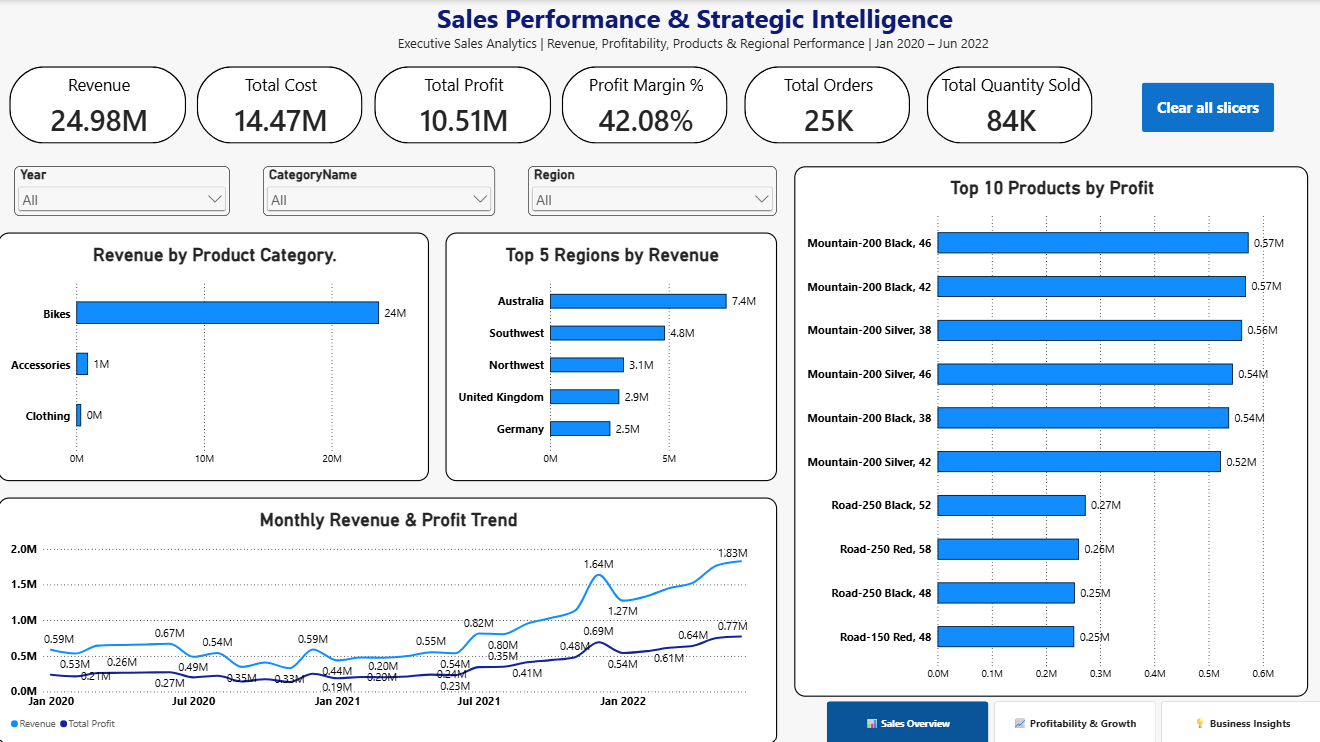

This screenshot's page, from the dashboard's own definition file:
{"tool":"powerbi","page":{"name":"📊 Sales Overview","canvas":[1920,1080],"ordinal":0},"visuals":[{"type":"cardVisual","fields":{"Data":["Fact_Sales.Total Revenue"]},"box":[16,96,256,112],"z":0},{"type":"cardVisual","fields":{"Data":["Fact_Sales.Total Cost"]},"box":[288,96,240,112],"z":1000},{"type":"cardVisual","fields":{"Data":["Fact_Sales.Total Profit"]},"box":[544,96,256,112],"z":2000},{"type":"cardVisual","fields":{"Data":["Fact_Sales.Profit Margin %"]},"box":[816,96,240,112],"z":3000},{"type":"cardVisual","fields":{"Data":["Fact_Sales.Total Orders"]},"box":[1080,96,240,112],"z":4000},{"type":"cardVisual","fields":{"Data":["Fact_Sales.Total Quantity Sold"]},"box":[1344,96,240,112],"z":5000},{"type":"lineChart","title":"Monthly Revenue & Profit Trend","fields":{"Y":["Fact_Sales.Total Revenue","Fact_Sales.Total Profit"],"Category":["Dim_Calendar.Date.Variation.Date Hierarchy.Year","Dim_Calendar.Date.Variation.Date Hierarchy.Month"]},"box":[0,720,1128,360],"z":6000},{"type":"clusteredBarChart","title":"Revenue by Product Category.","fields":{"Category":["Dim_ProductCategory.CategoryName"],"Y":["Fact_Sales.Total Revenue"]},"box":[0,336,624,360],"z":7000},{"type":"clusteredBarChart","title":"Top 5 Regions by Revenue","fields":{"Category":["Dim_Territory.Region"],"Y":["Fact_Sales.Total Revenue"]},"box":[648,336,480,360],"z":8000},{"type":"clusteredBarChart","title":"Top 10 Products by Profit","fields":{"Y":["Fact_Sales.Total Profit"],"Category":["Dim_Product.ProductName"]},"box":[1152,240,744,768],"z":9000},{"type":"textbox","box":[504,0,1008,96],"z":10000},{"type":"slicer","fields":{"Values":["Dim_Calendar.Year"]},"box":[24,240,312,72],"z":11000},{"type":"slicer","fields":{"Values":["Dim_ProductCategory.CategoryName"]},"box":[384,240,336,72],"z":12000},{"type":"slicer","fields":{"Values":["Dim_Territory.Region"]},"box":[768,240,360,72],"z":13000},{"type":"actionButton","box":[1656,120,192,72],"z":14000},{"type":"pageNavigator","box":[1200,1016,720,64],"z":15000}]}

Visuals, with their boxes in screenshot pixels (x1, y1, x2, y2), scaled from the page's 1920x1080 canvas onto the 1320x742 screenshot:
cardVisual - Fact_Sales.Total Revenue: detection(11, 66, 187, 143)
cardVisual - Fact_Sales.Total Cost: detection(198, 66, 363, 143)
cardVisual - Fact_Sales.Total Profit: detection(374, 66, 550, 143)
cardVisual - Fact_Sales.Profit Margin %: detection(561, 66, 726, 143)
cardVisual - Fact_Sales.Total Orders: detection(742, 66, 908, 143)
cardVisual - Fact_Sales.Total Quantity Sold: detection(924, 66, 1089, 143)
"Monthly Revenue & Profit Trend" lineChart: detection(0, 495, 776, 741)
"Revenue by Product Category." clusteredBarChart: detection(0, 231, 429, 478)
"Top 5 Regions by Revenue" clusteredBarChart: detection(446, 231, 776, 478)
"Top 10 Products by Profit" clusteredBarChart: detection(792, 165, 1304, 693)
textbox: detection(346, 0, 1040, 66)
slicer - Dim_Calendar.Year: detection(16, 165, 231, 214)
slicer - Dim_ProductCategory.CategoryName: detection(264, 165, 495, 214)
slicer - Dim_Territory.Region: detection(528, 165, 776, 214)
actionButton: detection(1138, 82, 1270, 132)
pageNavigator: detection(825, 698, 1319, 741)
